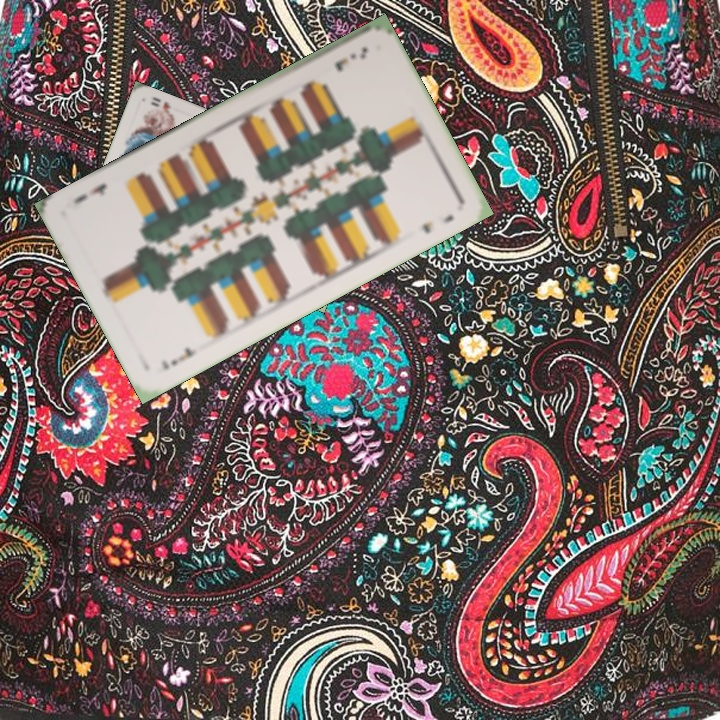E7: (330, 42, 371, 75), (157, 342, 200, 372)
